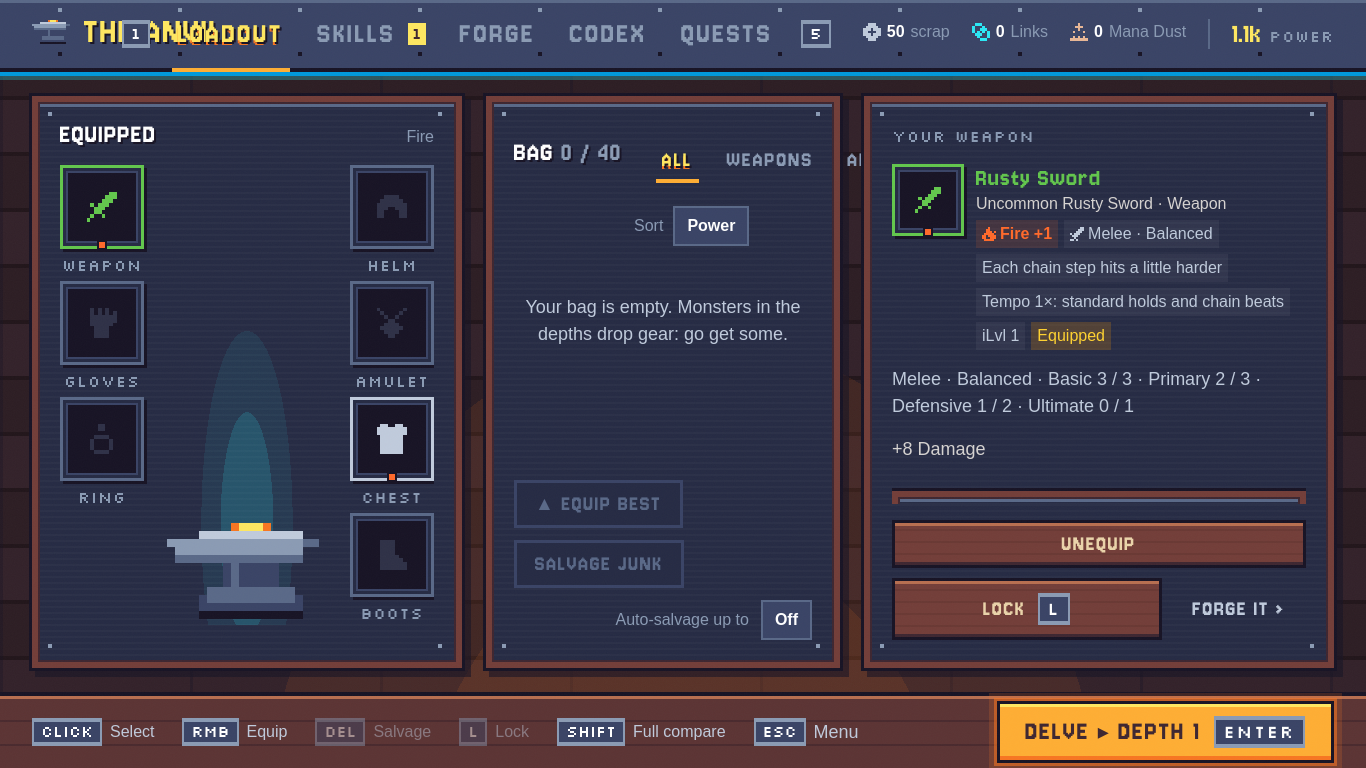
Test case: DelveCamp › Apply shows the price, and the engine's refusal when it can't go through
Step 1. Click the button with test id "depart-button" → (1165, 732), box [996,701,1334,763]
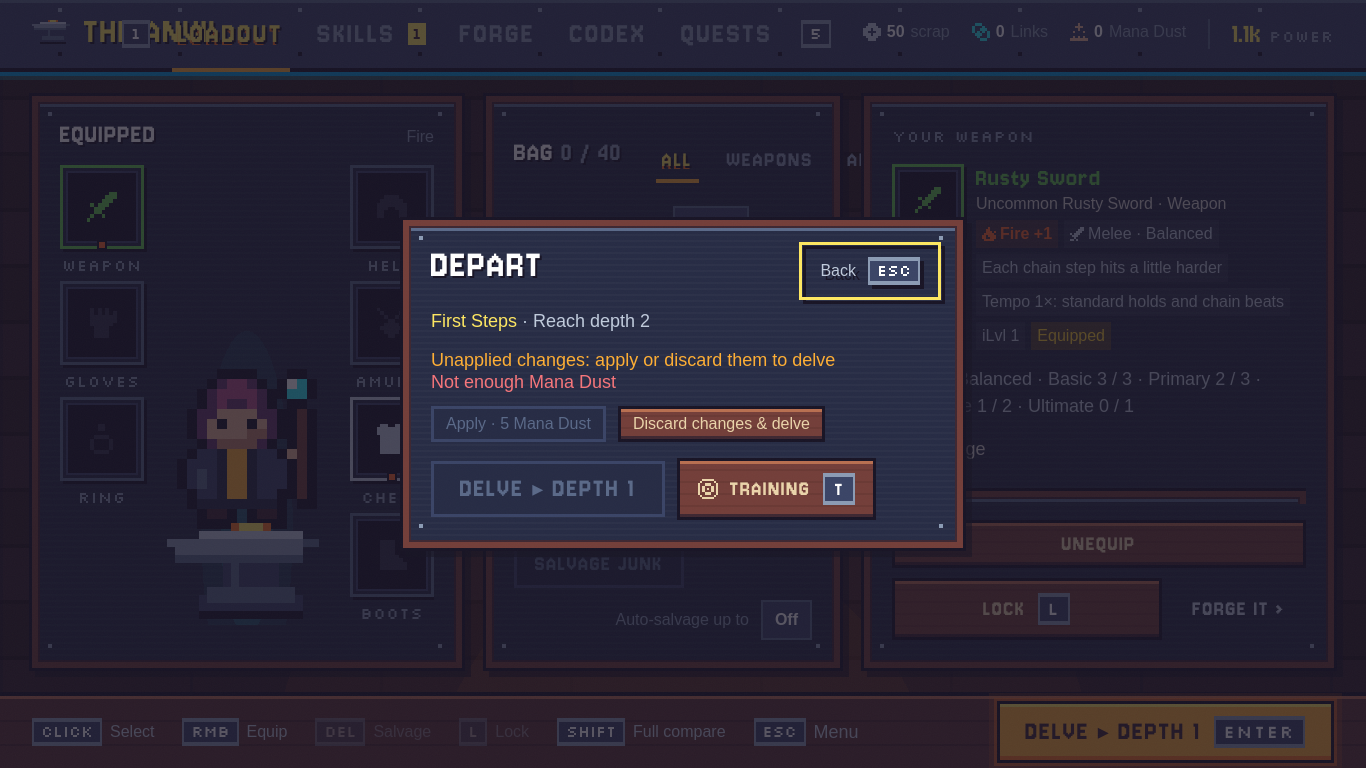
Expected: the button with test id "draft-apply" reads "Apply · 5 Mana Dust", [431,406,606,442]
Expected: the button with test id "draft-apply" is disabled, [431,406,606,442]
Expected: the text with test id "draft-apply-why" reads "Not enough Mana Dust", [431,372,616,392]
